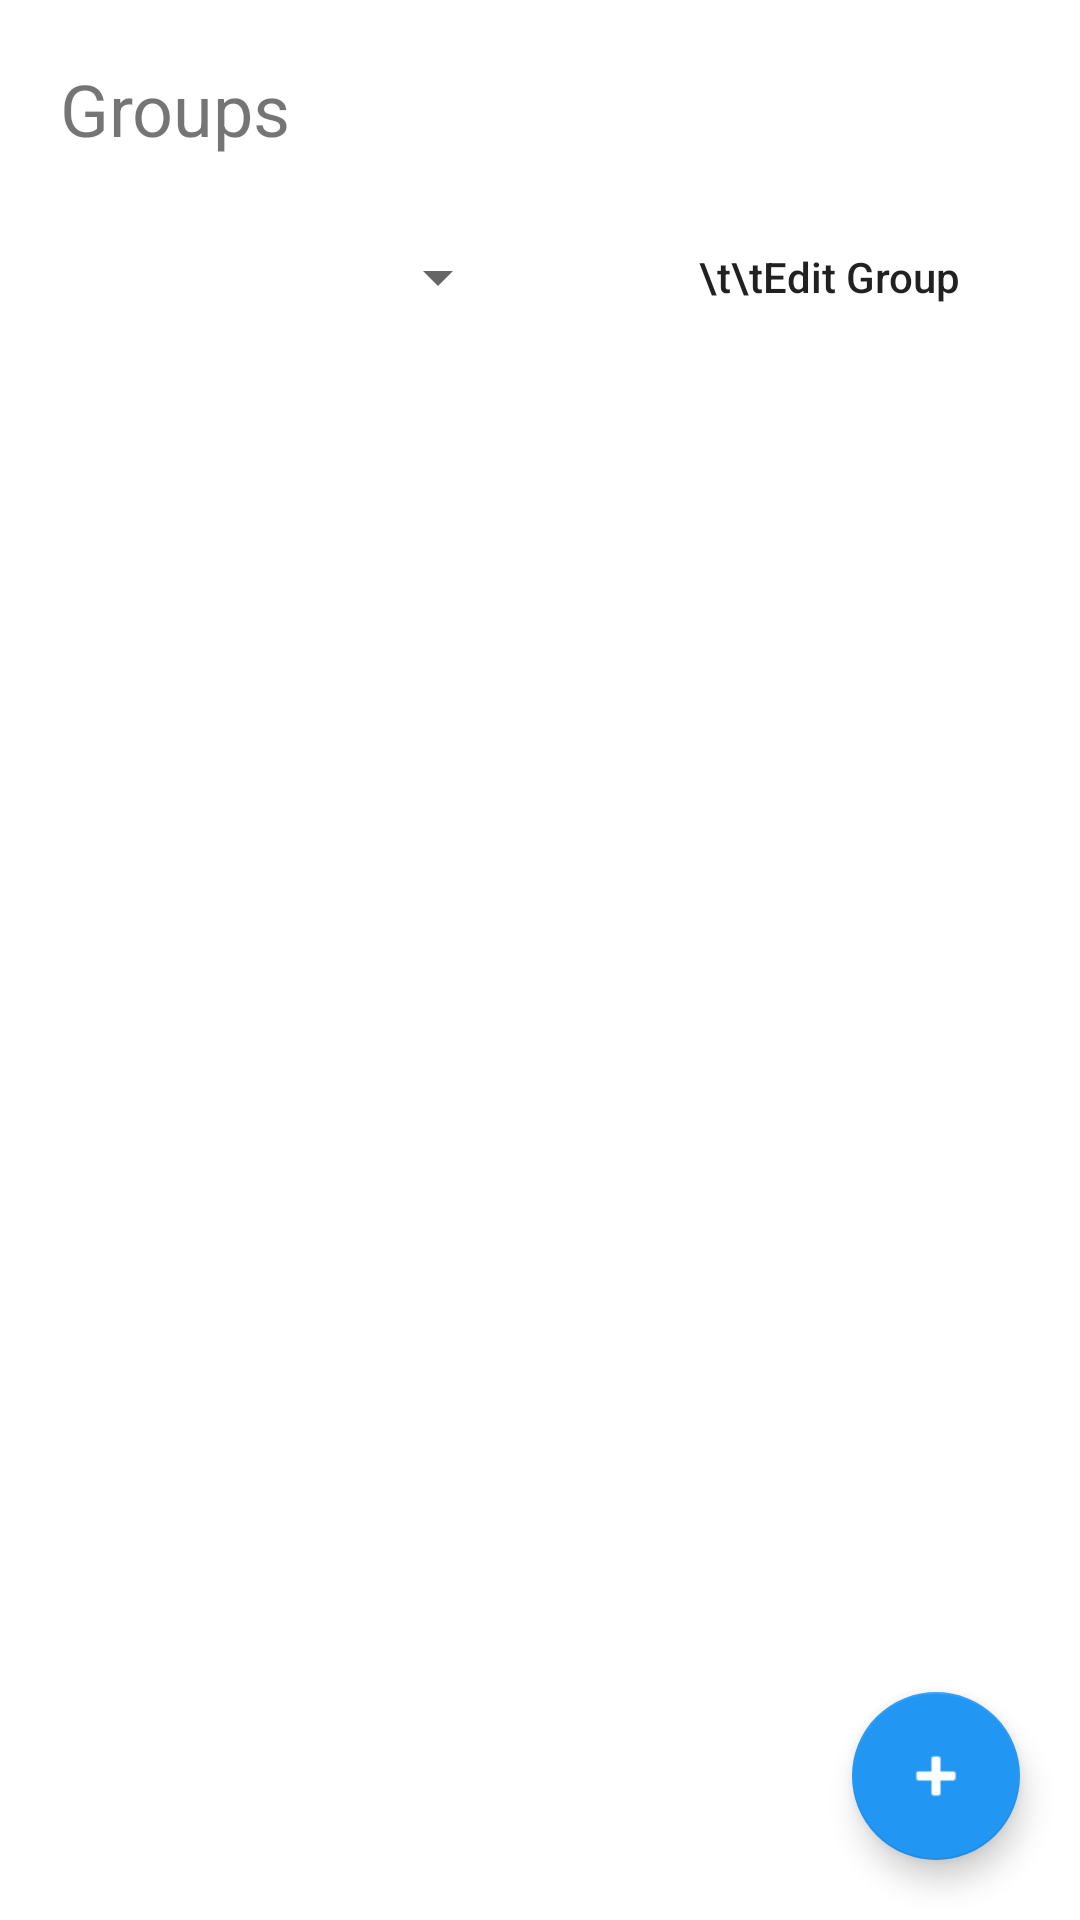

Named icons in this screenshot (1080px x 1920px) and their centers, point (x, y):
Add a new device: point (936, 1776)
